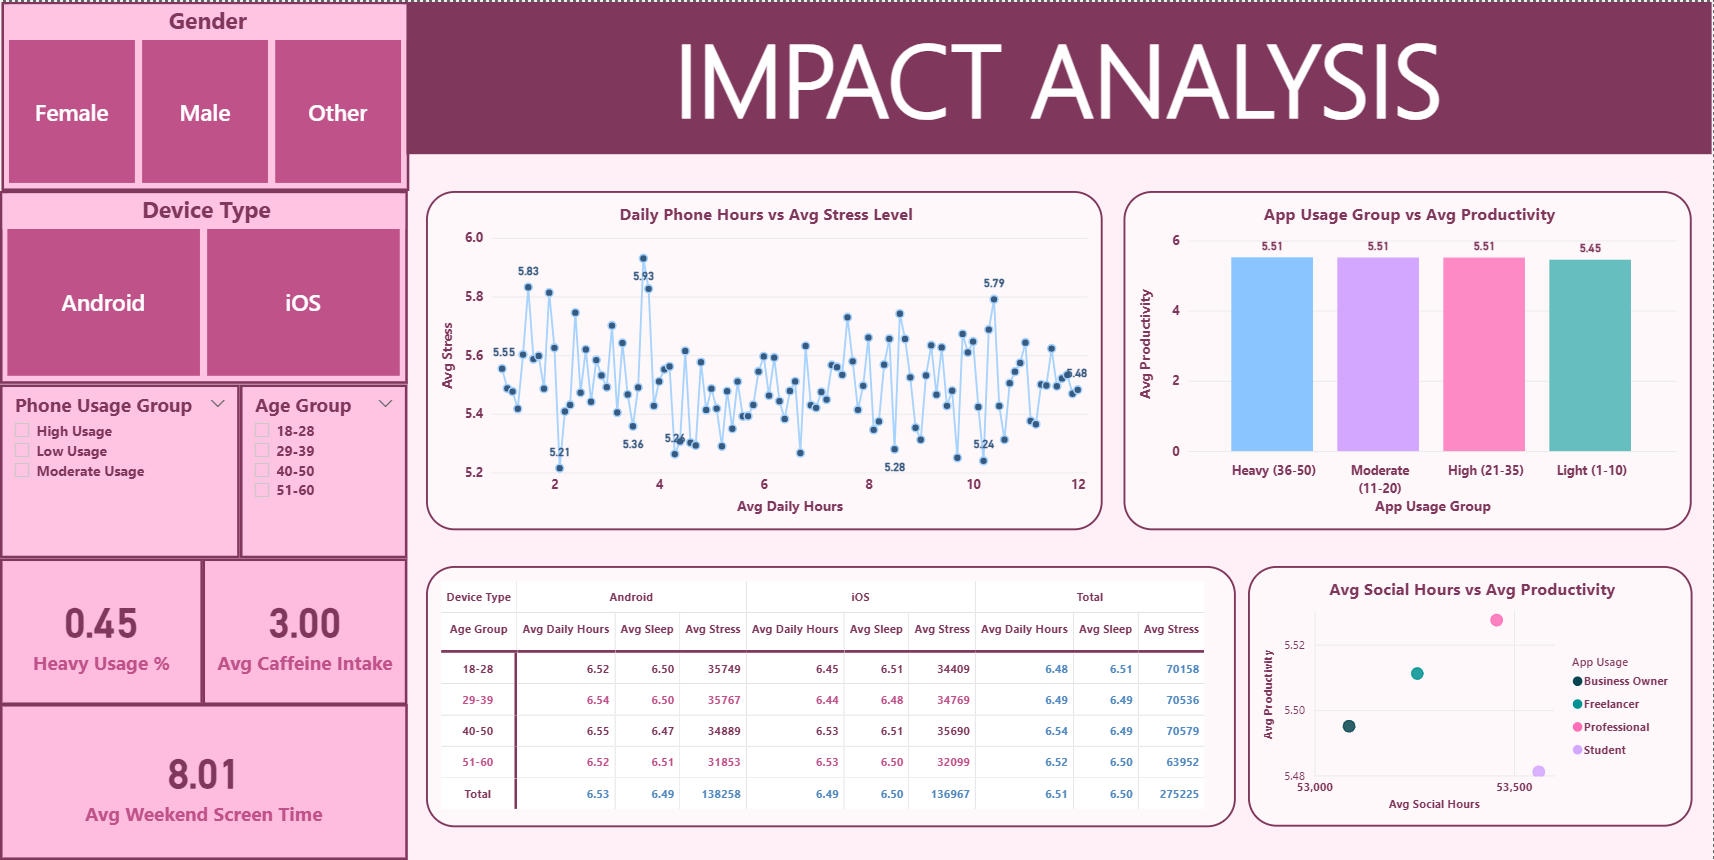

The dashboard page shown, as its layout file describes it:
{"tool":"powerbi","page":{"name":"IMPACT ANALYSIS","canvas":[1800,903],"ordinal":2},"visuals":[{"type":"advancedSlicerVisual","fields":{"Values":["smartphone (2).Gender"]},"box":[2.1,0,428.5,198.9],"z":0},{"type":"slicer","title":"fdh","fields":{"Values":["smartphone (2).Age_Group"]},"box":[252.2,401.8,176.3,182.5],"z":1000},{"type":"advancedSlicerVisual","fields":{"Values":["smartphone (2).Device_Type"]},"box":[0,198.9,428.5,203],"z":2000},{"type":"slicer","title":"fdh","fields":{"Values":["smartphone (2).Phone Usage Group"]},"box":[0,401.8,252.2,182.5],"z":3000},{"type":"card","fields":{"Values":["Sum(smartphone (2).Heavy Usage %)"]},"box":[0,584.3,213.2,153.8],"z":4000},{"type":"card","fields":{"Values":["Avg(smartphone (2).Weekend_Screen_Time_Hours)"]},"box":[0,738,428.5,164],"z":5000},{"type":"card","fields":{"Values":["Avg(smartphone (2).Caffeine_Intake_Cups)"]},"box":[213.2,584.3,215.3,153.8],"z":6000},{"type":"clusteredColumnChart","title":"App Usage Group vs Avg Productivity","fields":{"Category":["smartphone (2).App_Usage_Count_Group"],"Y":["Avg(smartphone (2).Work_Productivity_Score)"]},"box":[1181.1,198.7,597.6,356.4],"z":7000},{"type":"lineChart","title":"Daily Phone Hours vs Avg Stress Level","fields":{"Y":["Avg(smartphone (2).Stress_Level)"],"Category":["smartphone (2).Daily_Phone_Hours"]},"box":[447.8,198.7,711.2,356.4],"z":8000},{"type":"scatterChart","title":"Avg Social Hours vs Avg Productivity","fields":{"X":["Sum(smartphone (2).Social_Media_Hours)"],"Y":["Avg(smartphone (2).Work_Productivity_Score)"],"Series":["smartphone (2).Occupation"]},"box":[1311.3,592.4,467.6,274.2],"z":9000},{"type":"textbox","box":[428,0,1372,160],"z":10000},{"type":"pivotTable","title":"Daily Phone Hours vs Avg Stress Level","fields":{"Rows":["smartphone (2).Age_Group"],"Columns":["smartphone (2).Device_Type"],"Values":["Avg(smartphone (2).Daily_Phone_Hours)","Avg(smartphone (2).Sleep_Hours)","Sum(smartphone (2).Stress_Level)"]},"box":[447.8,592.9,851.5,274.4],"z":11000}]}

Visuals, with their boxes in screenshot pixels (x1, y1, x2, y2), scaled from the page's 1800x903 canvas onto the 1714x860 screenshot:
advancedSlicerVisual - smartphone (2).Gender: detection(2, 0, 410, 189)
"fdh" slicer: detection(240, 383, 408, 556)
advancedSlicerVisual - smartphone (2).Device_Type: detection(0, 189, 408, 383)
"fdh" slicer: detection(0, 383, 240, 556)
card - Sum(smartphone (2).Heavy Usage %): detection(0, 556, 203, 703)
card - Avg(smartphone (2).Weekend_Screen_Time_Hours): detection(0, 703, 408, 859)
card - Avg(smartphone (2).Caffeine_Intake_Cups): detection(203, 556, 408, 703)
"App Usage Group vs Avg Productivity" clusteredColumnChart: detection(1125, 189, 1694, 529)
"Daily Phone Hours vs Avg Stress Level" lineChart: detection(426, 189, 1104, 529)
"Avg Social Hours vs Avg Productivity" scatterChart: detection(1249, 564, 1694, 825)
textbox: detection(408, 0, 1713, 152)
"Daily Phone Hours vs Avg Stress Level" pivotTable: detection(426, 565, 1237, 826)
